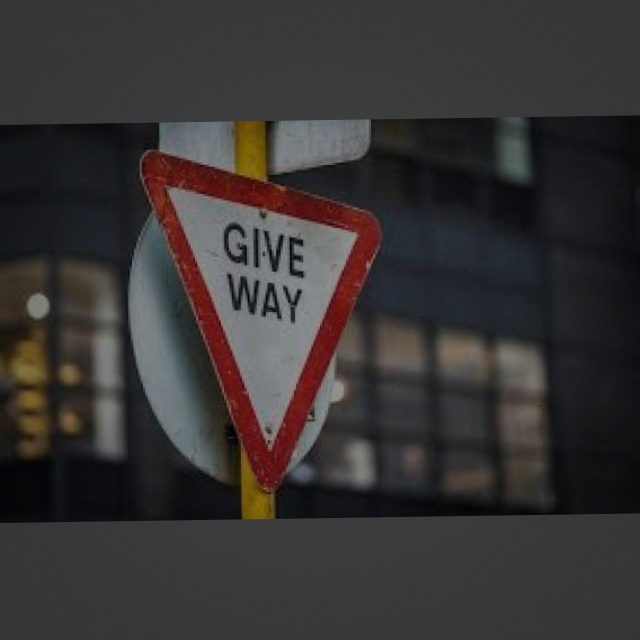Give_Way: (148, 150, 384, 494)
